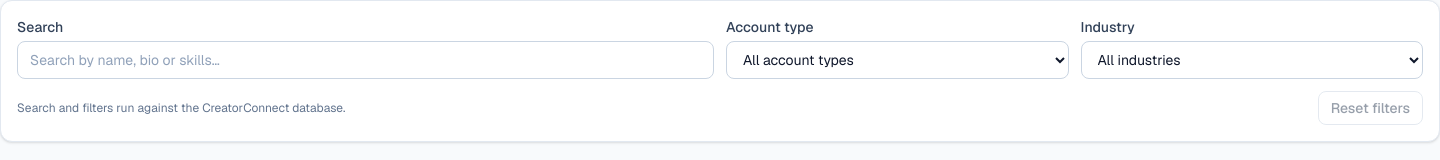
SearchFilters › clears the account type and keyword when Reset is clicked
Type "studio" into the search field labelled "Search".
click(366, 60); type("studio")  # box top-left (17, 41), bottom-right (714, 79)
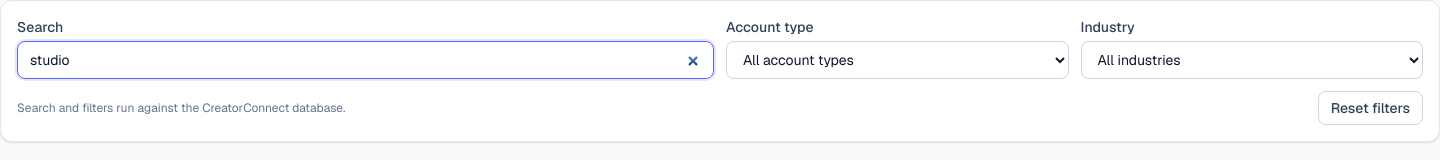
Select "Brand" in the dropdown labelled "Account type" at {"x": 897, "y": 60}, box top-left (726, 41), bottom-right (1068, 79)
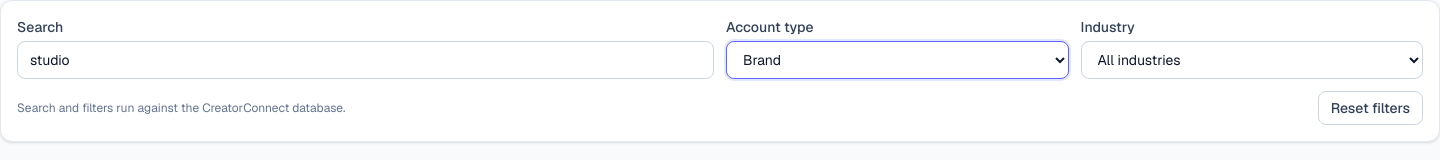
Click the button "Reset filters".
click(1370, 108)  # box top-left (1318, 91), bottom-right (1423, 125)
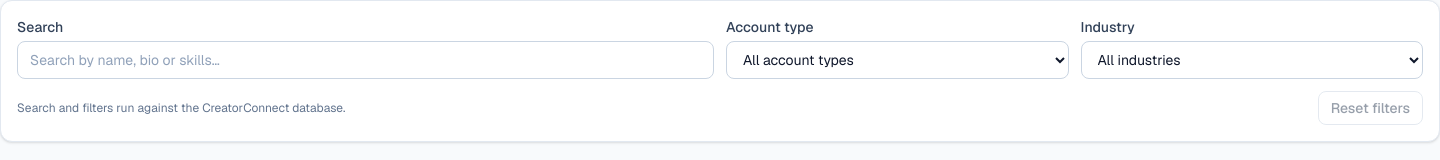
Expected: the search field labelled "Search" is empty, top-left (17, 41), bottom-right (714, 79)
